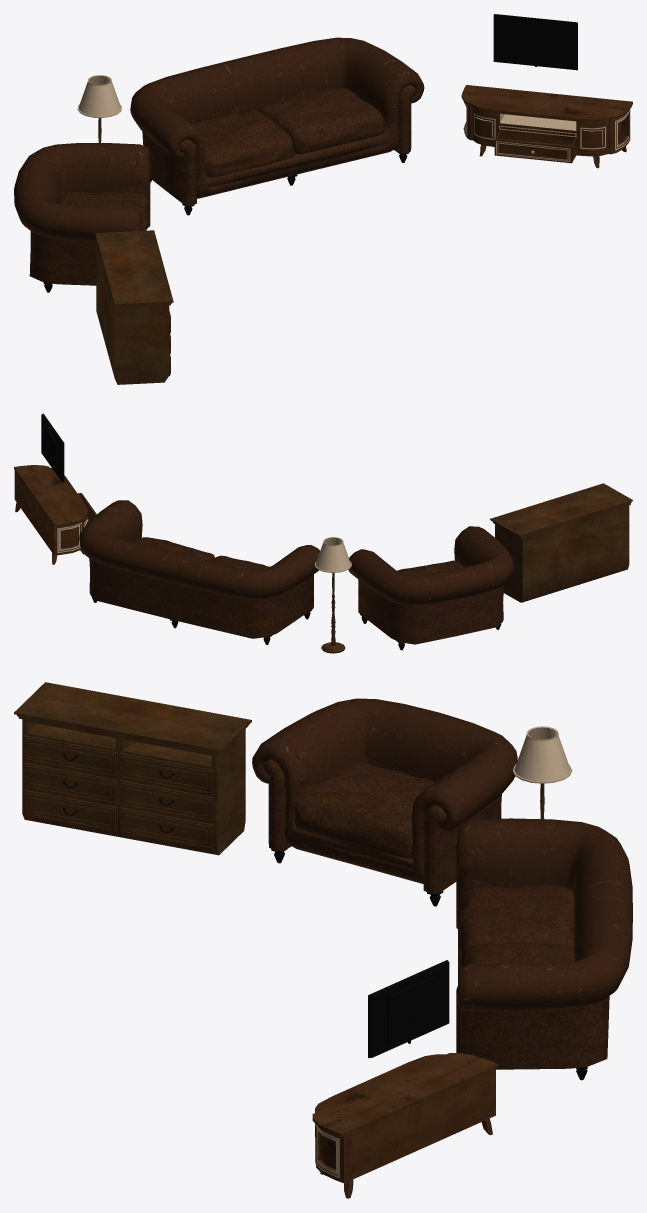
The model's file is Vintage_Living_Room_Furniture_Pack_Game-Ready.glb.
The picture shows the model from 3 angles, top to bottom: view 1: azimuth 30°, elevation 25°; view 2: azimuth 150°, elevation 25°; view 3: azimuth 270°, elevation 25°; orthographic projection. The views are drawn at different scales.
Visible parts, largest first — view 1: unnamed (×6); view 2: unnamed (×6); view 3: unnamed (×6).
Part boxes in pixels (x1,y1,x2,y2): unnamed (×6): (14, 14, 632, 384); unnamed (×6): (14, 413, 632, 653); unnamed (×6): (14, 682, 632, 1198).
Bounding box in the file's own units: 8.92 × 1.8 × 5.71.
Materials: 1 (1 with a texture image).
